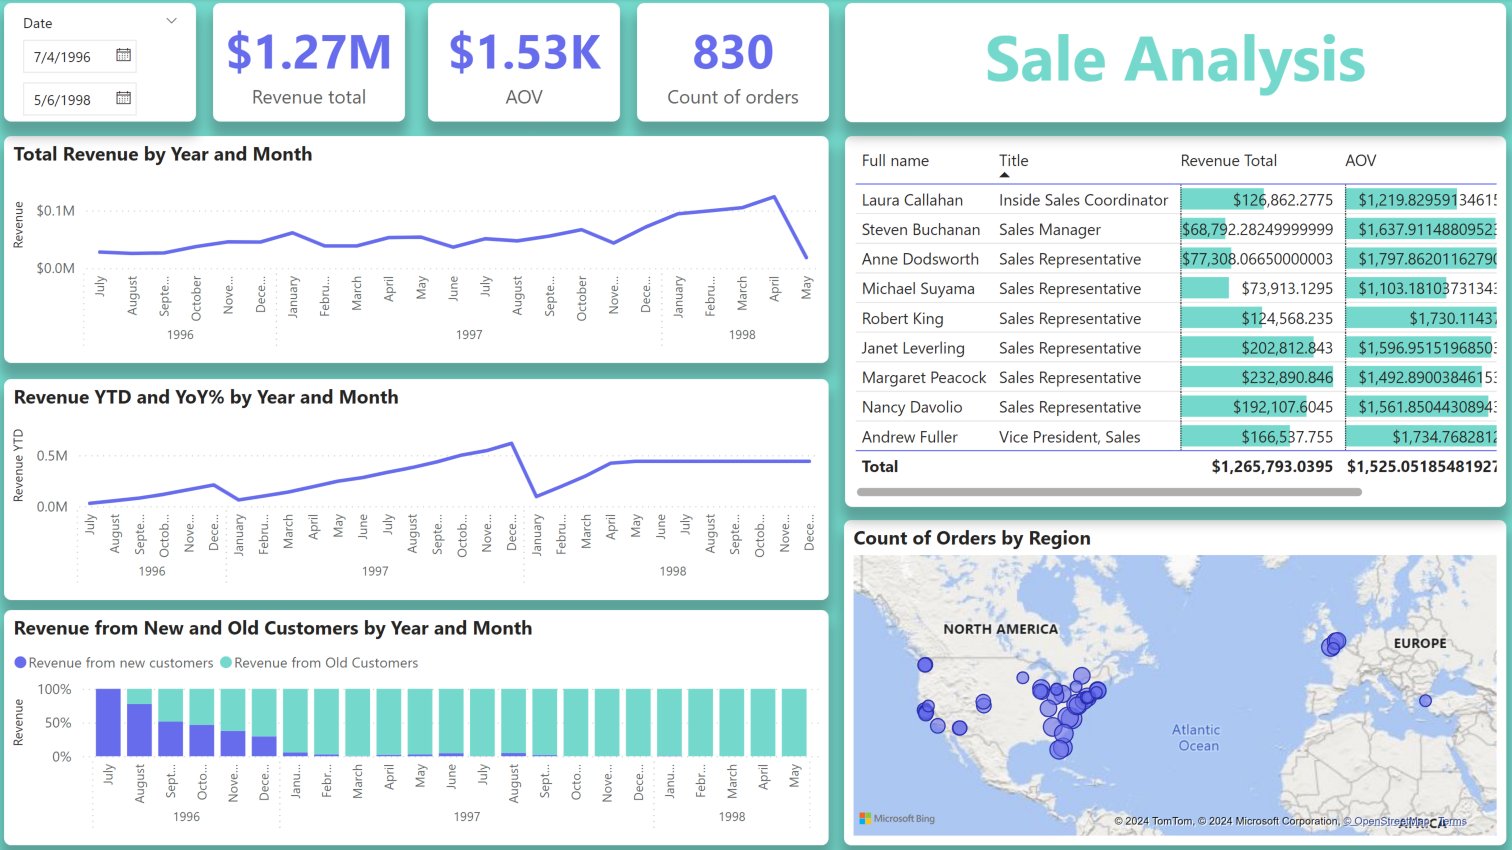

What the dashboard file says about the page in this screenshot:
{"tool":"powerbi","page":{"name":"Sale","canvas":[1280,720],"ordinal":3},"visuals":[{"type":"card","fields":{"Values":["Sales.Count of orders"]},"box":[539.9,3.5,162.2,100.1],"z":0},{"type":"card","fields":{"Values":["Sales.Revenue total"]},"box":[182,3.4,162,100.1],"z":1000},{"type":"card","fields":{"Values":["Sales.AOV"]},"box":[364,3.5,162.2,100.1],"z":2000},{"type":"lineChart","title":"Total Revenue by Year and Month","fields":{"Y":["Sales.Revenue total"],"Category":["Calendar.Date.Variation.Date Hierarchy.Year","Calendar.Date.Variation.Date Hierarchy.Month"]},"box":[6,115.6,696.1,191.5],"z":3000},{"type":"map","title":"Count of Orders by Region","fields":{"Category":["territories.territorydescription"],"Size":["Sales.Count of orders"]},"box":[715,439.9,565,274.3],"z":4000},{"type":"tableEx","fields":{"Values":["employees.fullname","employees.title","Sales.Revenue total","Sales.AOV","employees.country","employees.city"]},"box":[715.9,115.6,564.1,313.1],"z":5000},{"type":"slicer","fields":{"Values":["Calendar.Date"]},"box":[6,3.4,162,100.1],"z":6000},{"type":"lineChart","title":"Revenue YTD and YoY% by Year and Month","fields":{"Category":["Calendar.Date.Variation.Date Hierarchy.Year","Calendar.Date.Variation.Date Hierarchy.Month"],"Y":["Sales.Revenue total YTD"]},"box":[6,320.9,696.1,186.3],"z":7000},{"type":"hundredPercentStackedColumnChart","title":"Revenue from New and Old Customers by Year and Month","fields":{"Y":["Sales.Revenue total for new customerid","Sales.Revenue from Old Customers"],"Category":["Calendar.Date.Variation.Date Hierarchy.Year","Calendar.Date.Variation.Date Hierarchy.Month"]},"box":[6,515.8,696.1,198.4],"z":8000},{"type":"textbox","box":[715.9,3.5,564.1,100.1],"z":9000}]}

Visuals, with their boxes in screenshot pixels (x1, y1, x2, y2), scaled from the page's 1280x720 canvas onto the 1512x850 screenshot:
card - Sales.Count of orders: left=638, top=4, right=829, bottom=122
card - Sales.Revenue total: left=215, top=4, right=406, bottom=122
card - Sales.AOV: left=430, top=4, right=622, bottom=122
"Total Revenue by Year and Month" lineChart: left=7, top=136, right=829, bottom=363
"Count of Orders by Region" map: left=845, top=519, right=1511, bottom=843
tableEx - employees.fullname x employees.title: left=846, top=136, right=1511, bottom=506
slicer - Calendar.Date: left=7, top=4, right=198, bottom=122
"Revenue YTD and YoY% by Year and Month" lineChart: left=7, top=379, right=829, bottom=599
"Revenue from New and Old Customers by Year and Month" hundredPercentStackedColumnChart: left=7, top=609, right=829, bottom=843
textbox: left=846, top=4, right=1511, bottom=122
